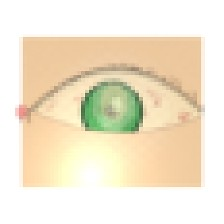corneal_ulcer: (84, 78, 145, 127)
